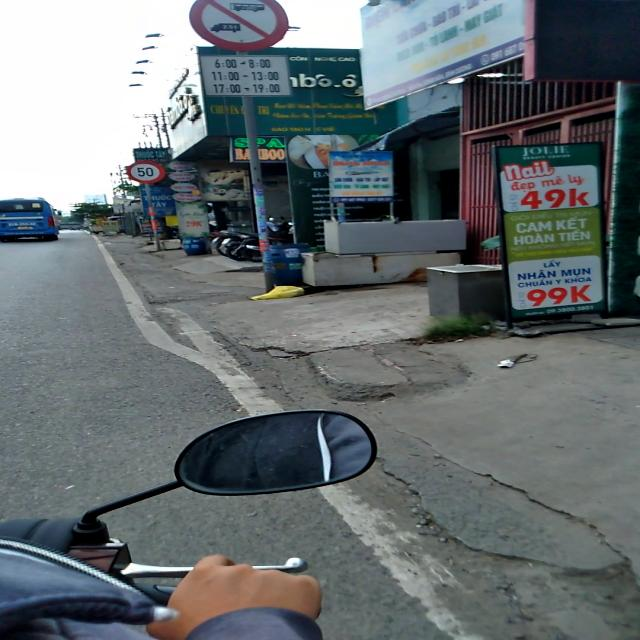P.127: (126, 160, 165, 184)
